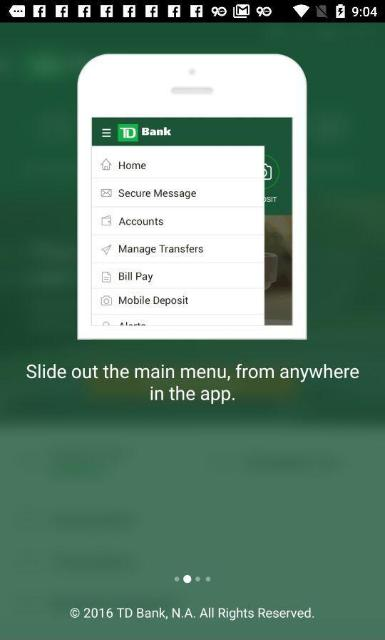BackgroundImage: (0, 24, 385, 640)
Image: (77, 53, 307, 339)
PageIndicator: (174, 573, 210, 583)
Text: (25, 363, 359, 405), (70, 606, 314, 620)
UpperTaskBar: (0, 0, 384, 22)
